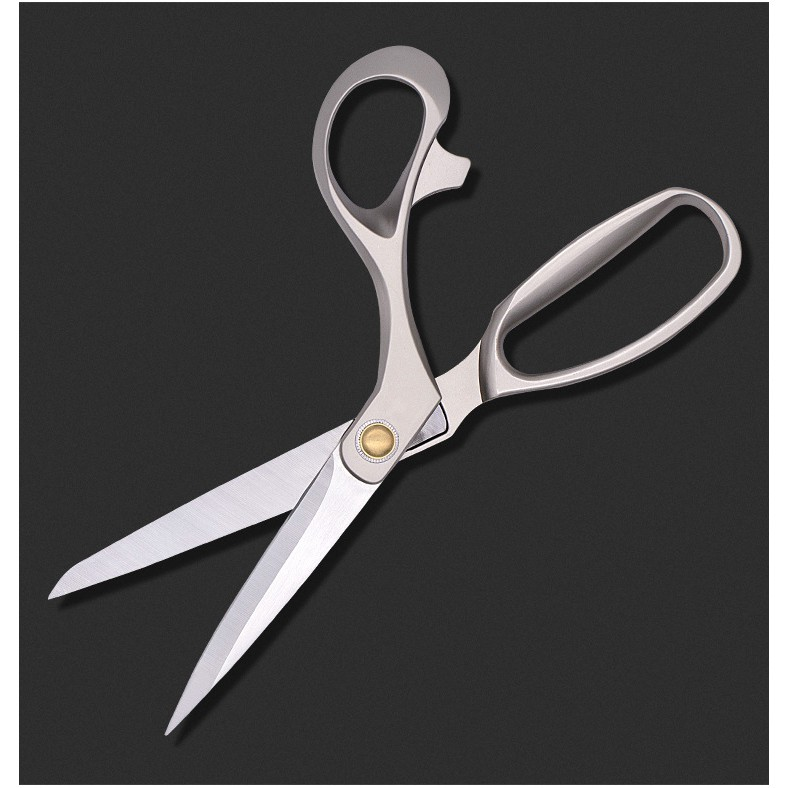scissors: (43, 40, 747, 741)
